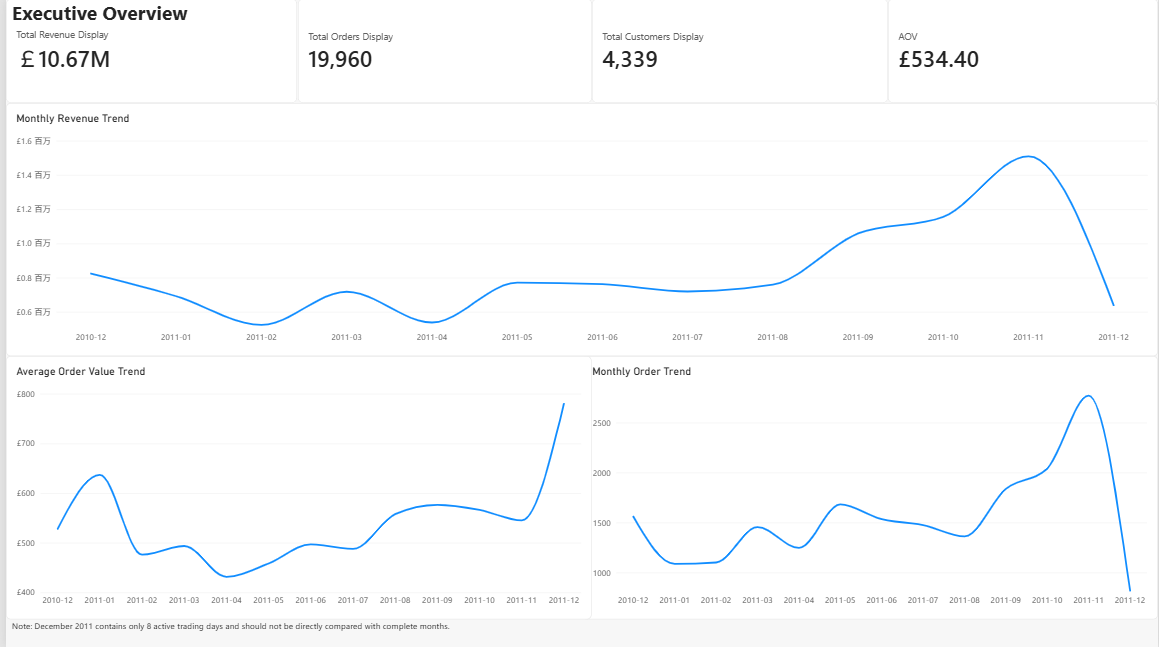

What the dashboard file says about the page in this screenshot:
{"tool":"powerbi","page":{"name":"Executive Overview","canvas":[1920,1080],"ordinal":0},"visuals":[{"type":"cardVisual","fields":{"Data":["clean_sales.Total Revenue Display"]},"box":[0,0,485.8,173.6],"z":0},{"type":"lineChart","title":"Monthly Revenue Trend","fields":{"Category":["clean_sales.YearMonth"],"Y":["clean_sales.Total Revenue"]},"box":[0,173.6,1920,421.6],"z":1000},{"type":"cardVisual","fields":{"Data":["clean_sales.Total Orders Display"]},"box":[485.8,0,490.2,173.6],"z":2000},{"type":"cardVisual","fields":{"Data":["clean_sales.Total Customers Display"]},"box":[976,0,493.1,173.6],"z":3000},{"type":"cardVisual","fields":{"Data":["clean_sales.AOV"]},"box":[1469.2,0,450.8,173.6],"z":4000},{"type":"textbox","box":[10.2,1034.4,901.6,29.2],"z":5000},{"type":"lineChart","title":"Monthly Order Trend","fields":{"Category":["clean_sales.YearMonth"],"Y":["clean_sales.Total Orders"]},"box":[960,595.3,960,439.1],"z":6000},{"type":"lineChart","title":"Average Order Value Trend","fields":{"Category":["clean_sales.YearMonth"],"Y":["clean_sales.AOV"]},"box":[0,595.3,976,439.1],"z":7000},{"type":"textbox","box":[10.2,0,299.1,96.3],"z":7001}]}

Visuals, with their boxes in screenshot pixels (x1, y1, x2, y2), scaled from the page's 1920x1080 canvas onto the 1159x647 screenshot:
cardVisual - clean_sales.Total Revenue Display: locate(0, 0, 293, 104)
"Monthly Revenue Trend" lineChart: locate(0, 104, 1158, 357)
cardVisual - clean_sales.Total Orders Display: locate(293, 0, 589, 104)
cardVisual - clean_sales.Total Customers Display: locate(589, 0, 887, 104)
cardVisual - clean_sales.AOV: locate(887, 0, 1158, 104)
textbox: locate(6, 620, 550, 637)
"Monthly Order Trend" lineChart: locate(580, 357, 1158, 620)
"Average Order Value Trend" lineChart: locate(0, 357, 589, 620)
textbox: locate(6, 0, 187, 58)
